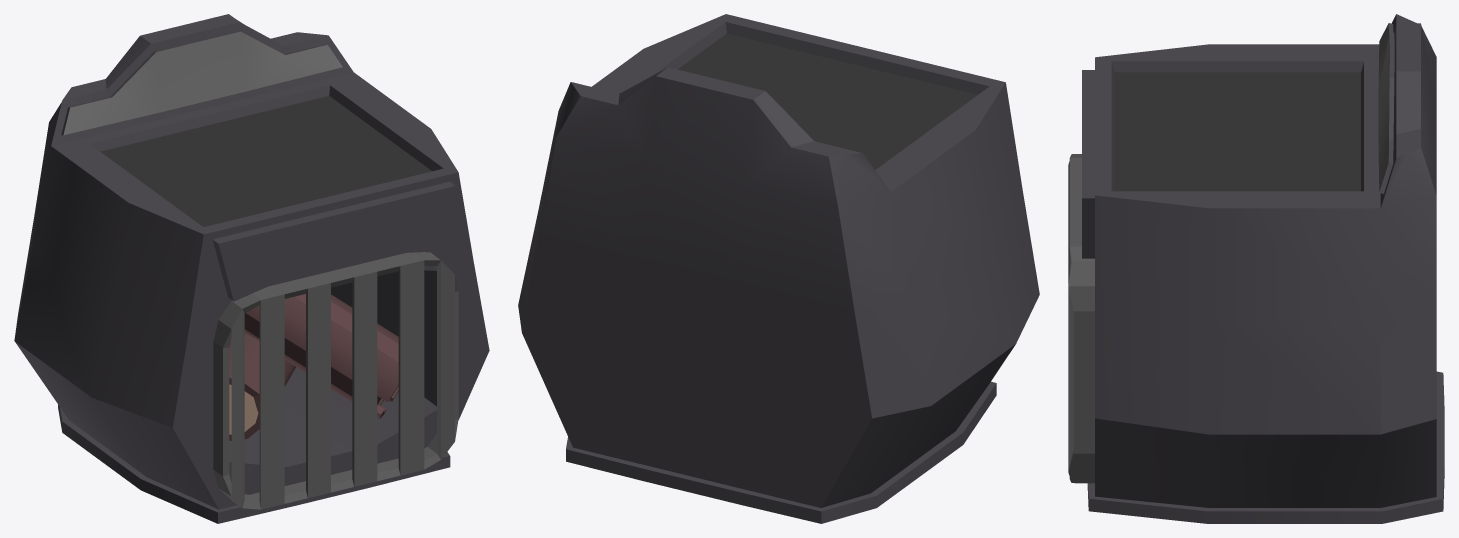
File: FryingPanFurnance.fbx
The picture shows the model from 3 angles, left to right: view 1: azimuth 30°, elevation 25°; view 2: azimuth 150°, elevation 25°; view 3: azimuth 270°, elevation 25°; orthographic projection. The views are drawn at different scales.
Parts seen in each view (by area): view 1: Cube, Cube.003, Cube.002, Cube.001; view 2: Cube; view 3: Cube, Cube.003.
Part boxes in pixels (bbox=[...]): Cube: bbox=[14, 14, 489, 523]; Cube.003: bbox=[213, 252, 458, 509]; Cube.002: bbox=[244, 294, 398, 418]; Cube.001: bbox=[229, 333, 295, 440]; Cube: bbox=[518, 14, 1039, 523]; Cube: bbox=[1082, 14, 1444, 523]; Cube.003: bbox=[1068, 154, 1094, 483].
Size of the model in its own units: 261 by 239 by 204.
